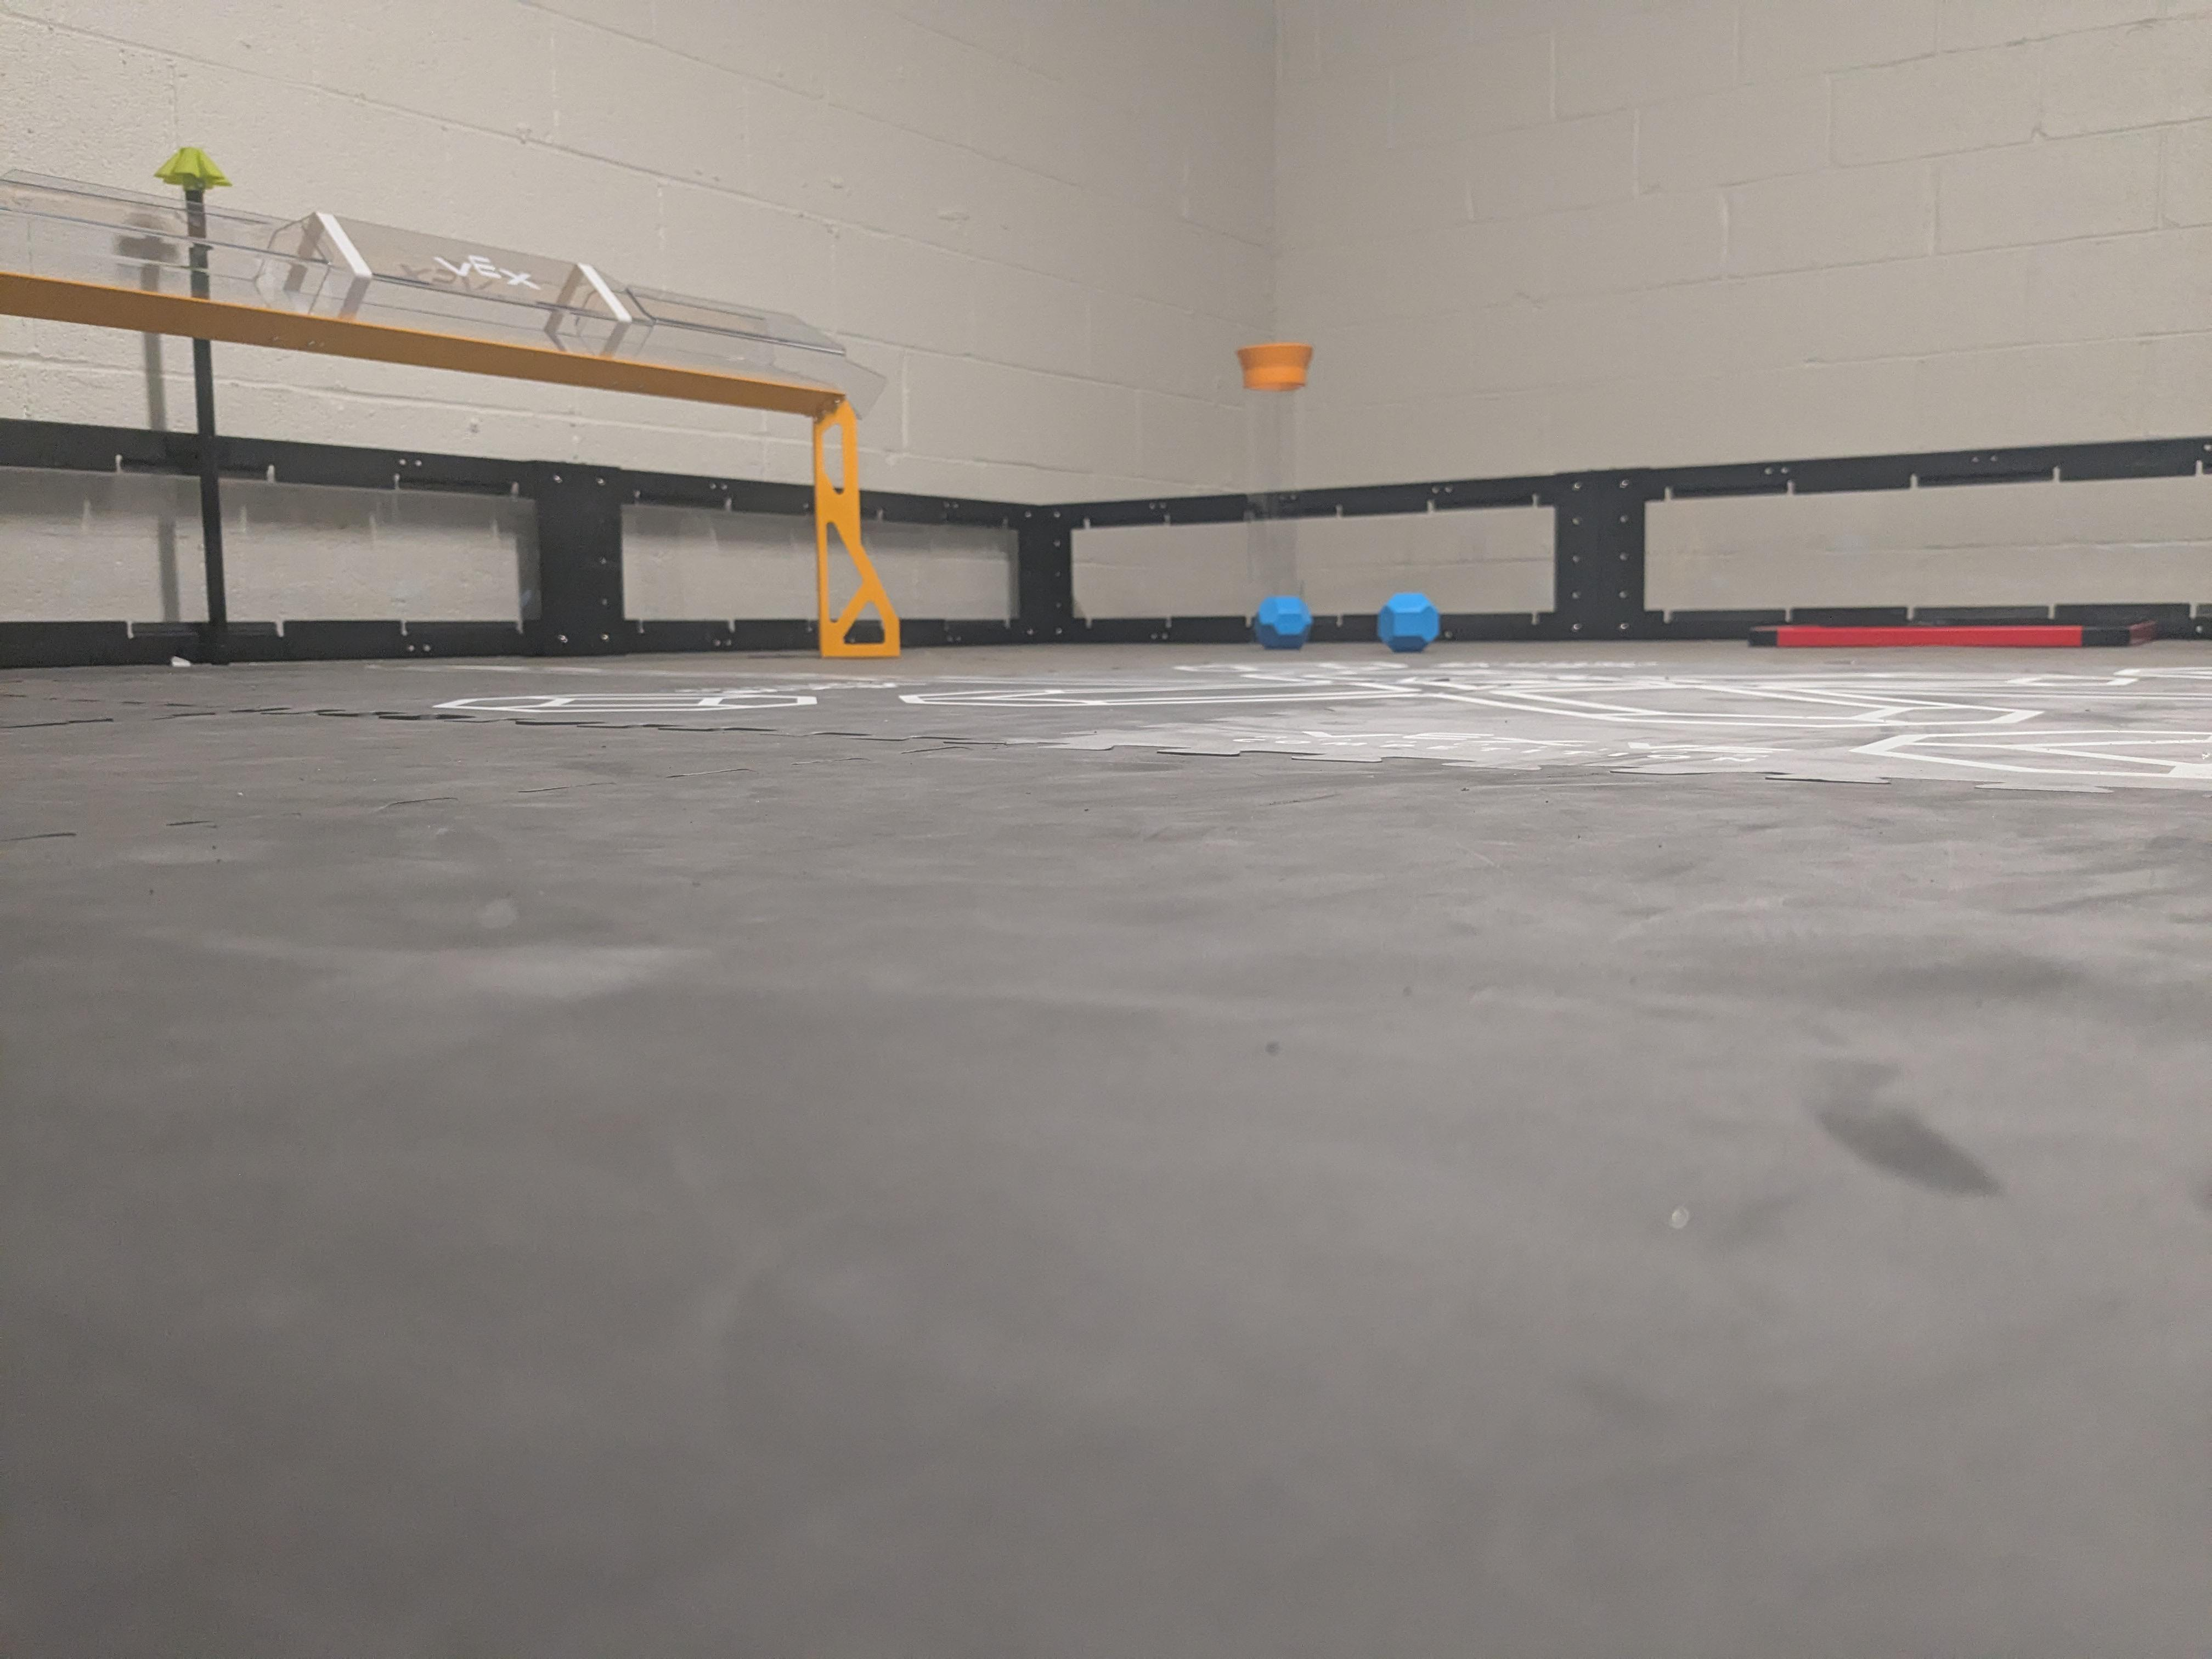Vex-Pieces-BLUE: (1378, 592, 1437, 650), (1254, 596, 1313, 648)
